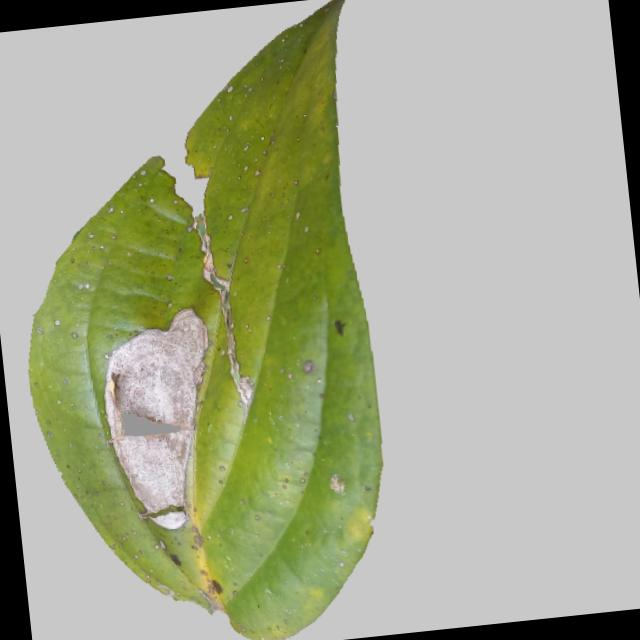leaf-blight: (0, 3, 417, 640)
